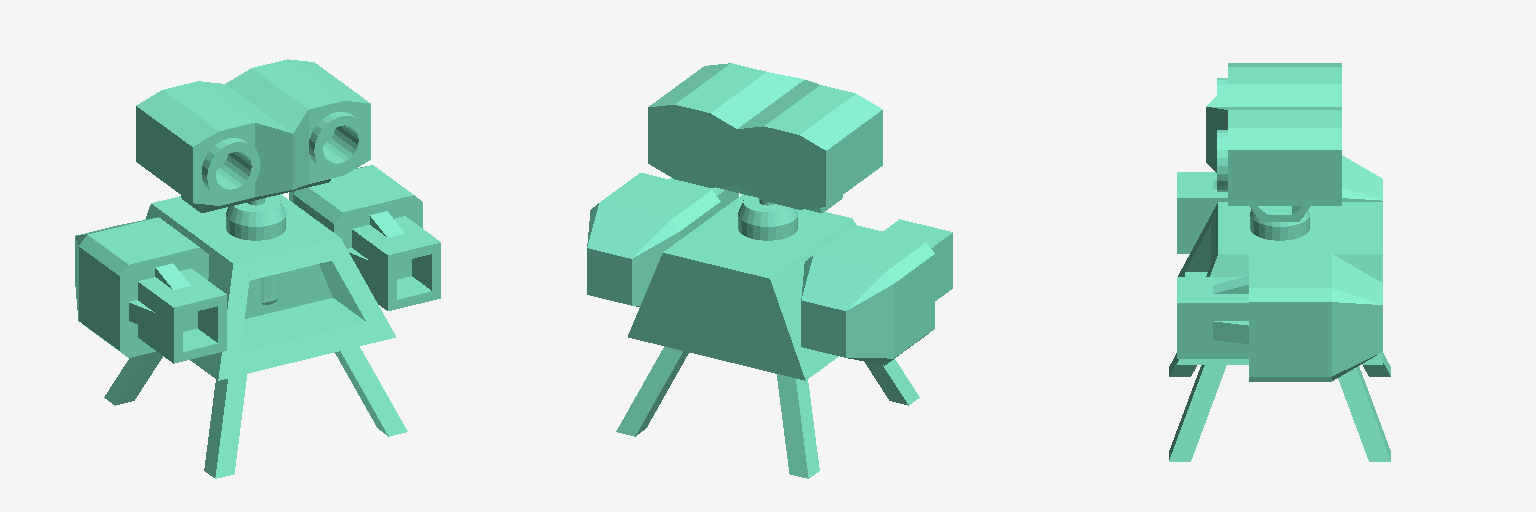
Rendered from walking_special_diamond.obj.
3 renders of one model, left to right at view 1: azimuth 30°, elevation 25°; view 2: azimuth 150°, elevation 25°; view 3: azimuth 270°, elevation 25°, orthographic.
Visible parts, largest first — view 1: mergedBlocks; view 2: mergedBlocks; view 3: mergedBlocks.
Boxes of the visible parts, box(x1,y1,x2,y2) form: mergedBlocks: box(75, 59, 440, 478); mergedBlocks: box(587, 63, 952, 478); mergedBlocks: box(1169, 63, 1390, 461).
Size of the model in its own units: 1.7 by 1.7 by 1.08.